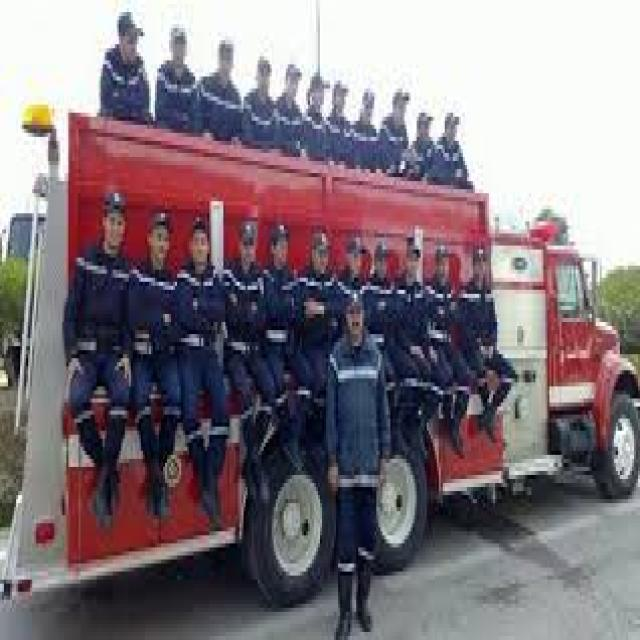pompier: (34, 185, 640, 556)
